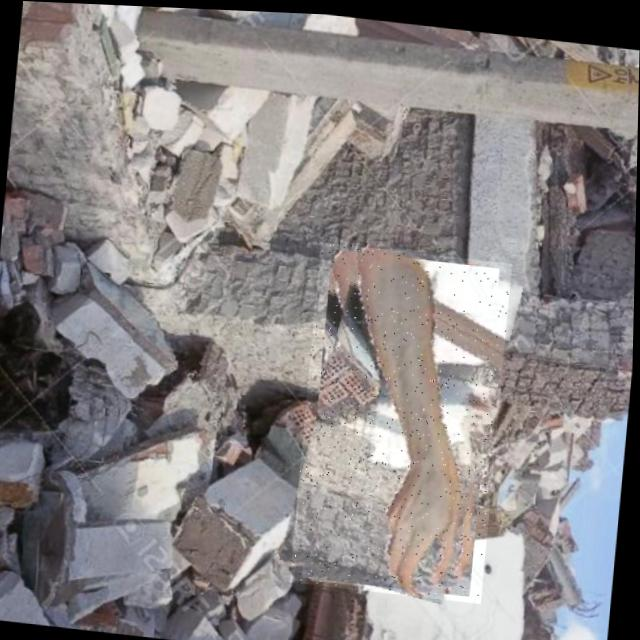Person in Rubble: (291, 238, 512, 600)
